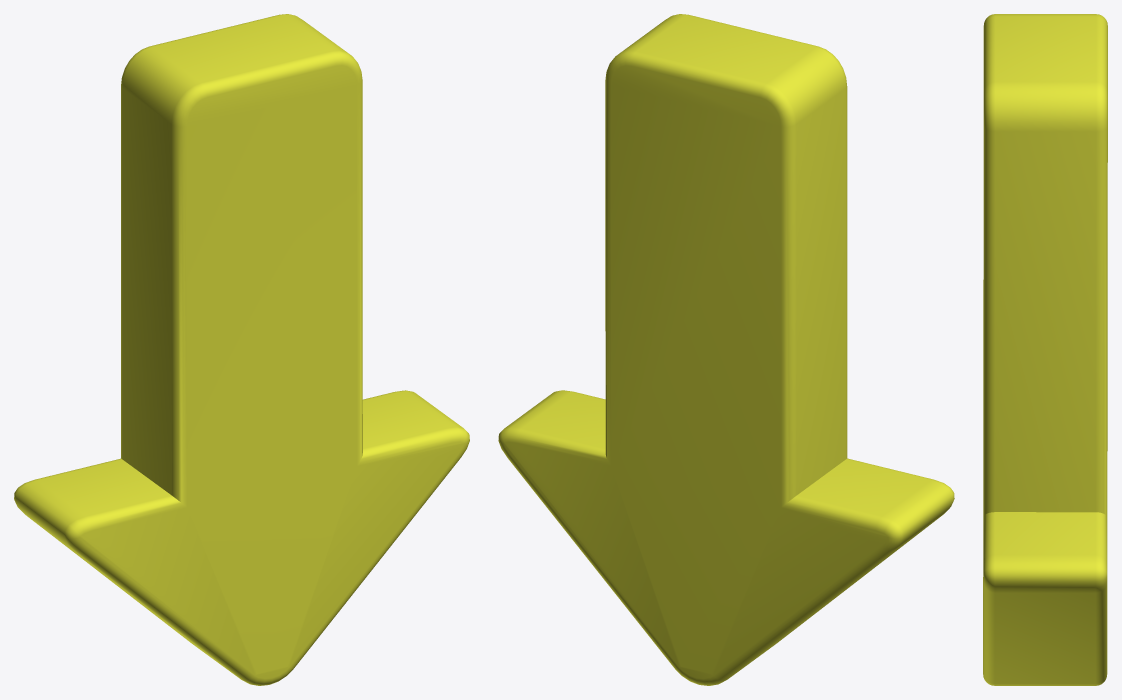
Rendered from pointing arrow.fbx.
The picture shows the model from 3 angles, left to right: view 1: azimuth 30°, elevation 25°; view 2: azimuth 150°, elevation 25°; view 3: azimuth 270°, elevation 25°; orthographic projection. The views are drawn at different scales.
Parts seen in each view (by area): view 1: Cube.002; view 2: Cube.002; view 3: Cube.002.
Part boxes in pixels (x1,y1,x2,y2): Cube.002: [14, 14, 469, 685]; Cube.002: [498, 14, 954, 685]; Cube.002: [983, 14, 1107, 685].
Size of the model in its own units: 836 by 1221 by 218.
